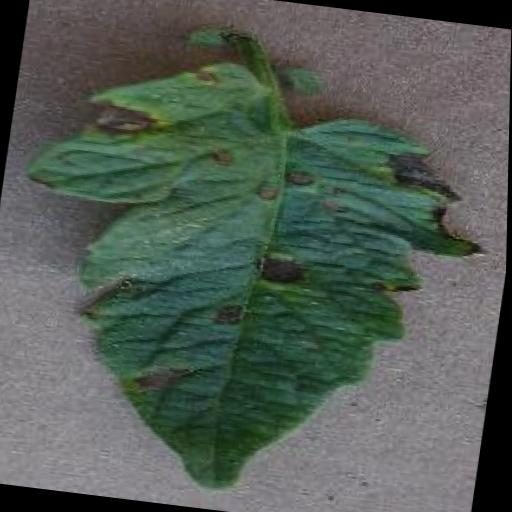Early Blight: (0, 2, 512, 512)
